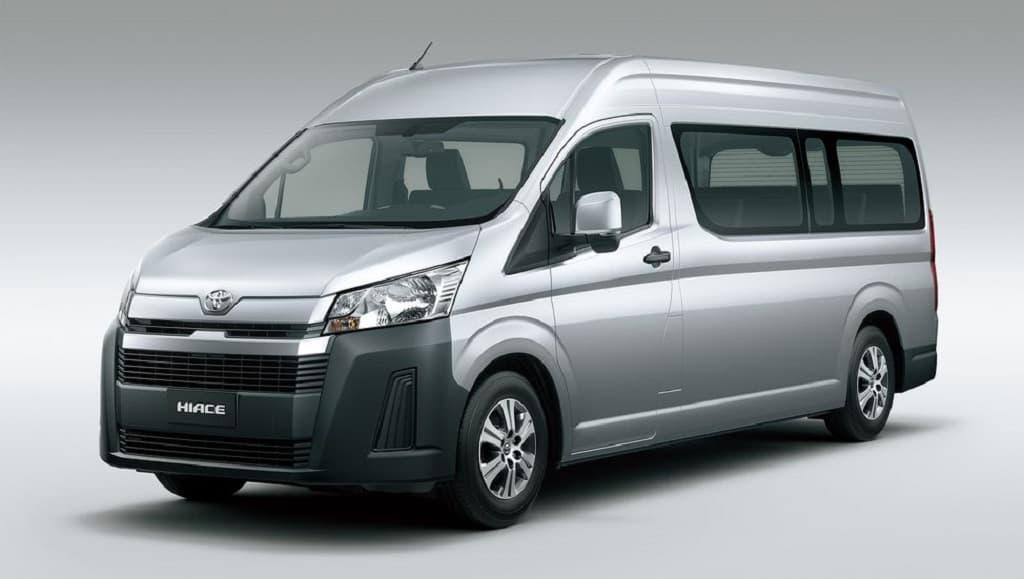van: (98, 52, 937, 531)
